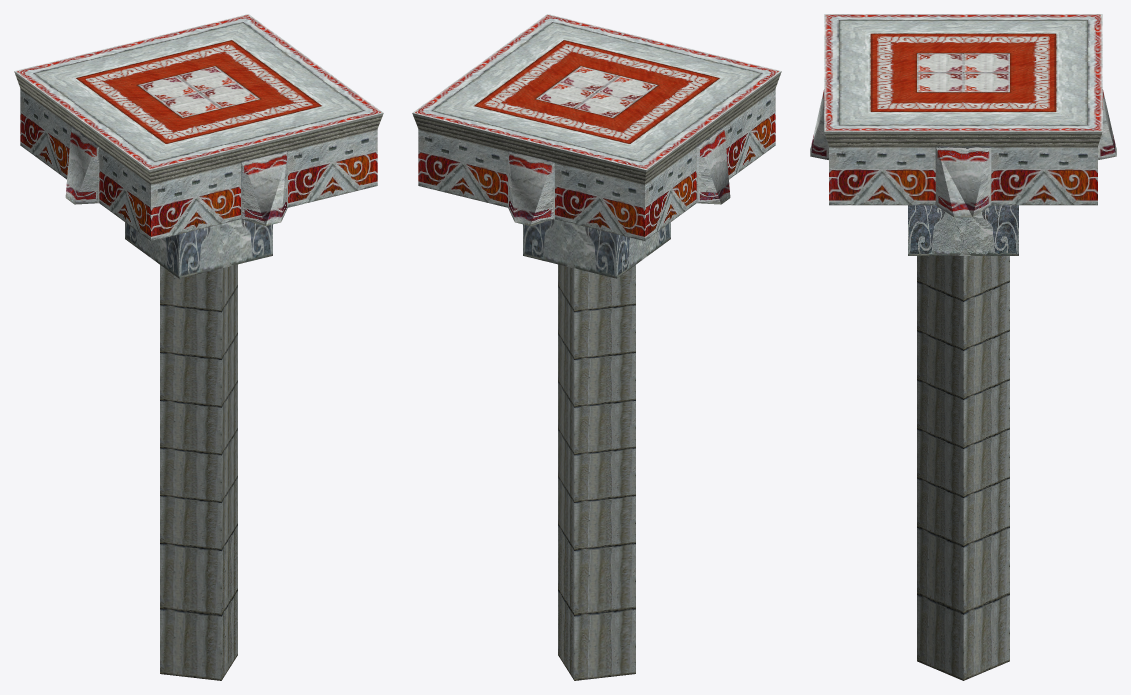
File: RisingPlatformMedium.obj
3 views of the same model, side by side, from view 1: azimuth 30°, elevation 25°; view 2: azimuth 150°, elevation 25°; view 3: azimuth 270°, elevation 25° (orthographic). The views are drawn at different scales.
Size of the model in its own units: 165 by 350 by 165.
8 materials, 8 textured.
